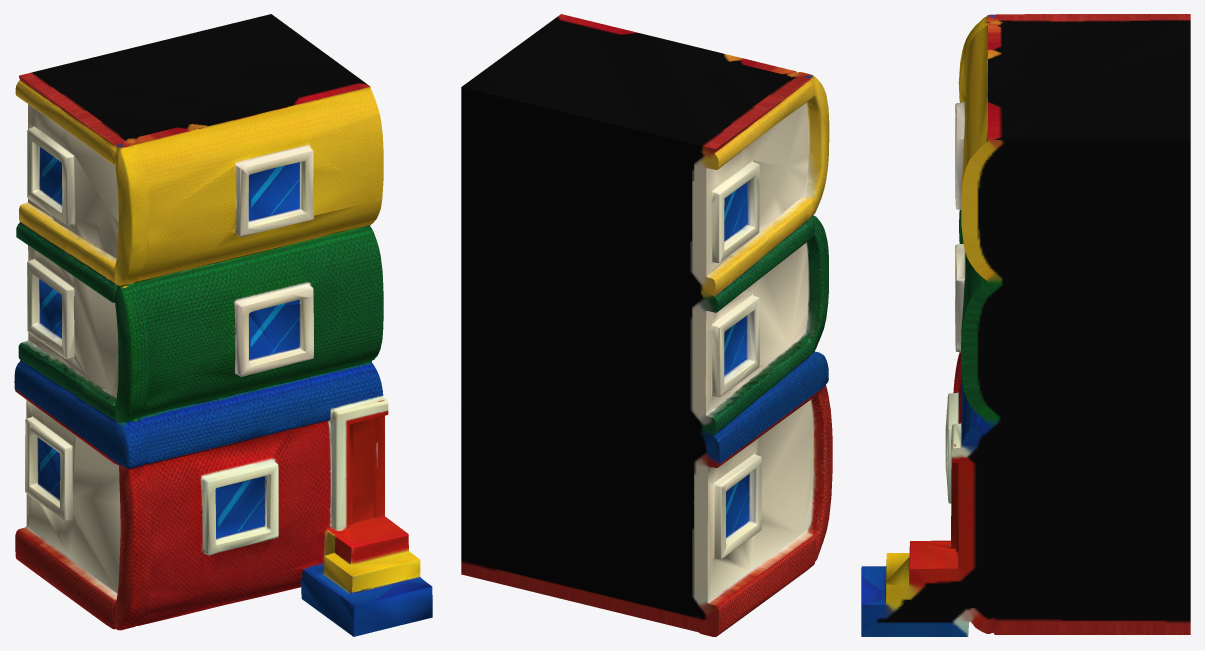
Rendered from 1-ground-floor-front-left.fbx.
The picture shows the model from 3 angles, left to right: view 1: azimuth 30°, elevation 25°; view 2: azimuth 150°, elevation 25°; view 3: azimuth 270°, elevation 25°; orthographic projection. The views are drawn at different scales.
Visible parts, largest first — view 1: ground-floor-front-left; view 2: ground-floor-front-left; view 3: ground-floor-front-left.
Boxes of the visible parts, x1,y1,x2,y2 form: ground-floor-front-left: (14,14,432,636); ground-floor-front-left: (461,14,832,636); ground-floor-front-left: (861,14,1190,636).
Size of the model in its own units: 5046 by 9119 by 5482.
1 material, 1 textured.
